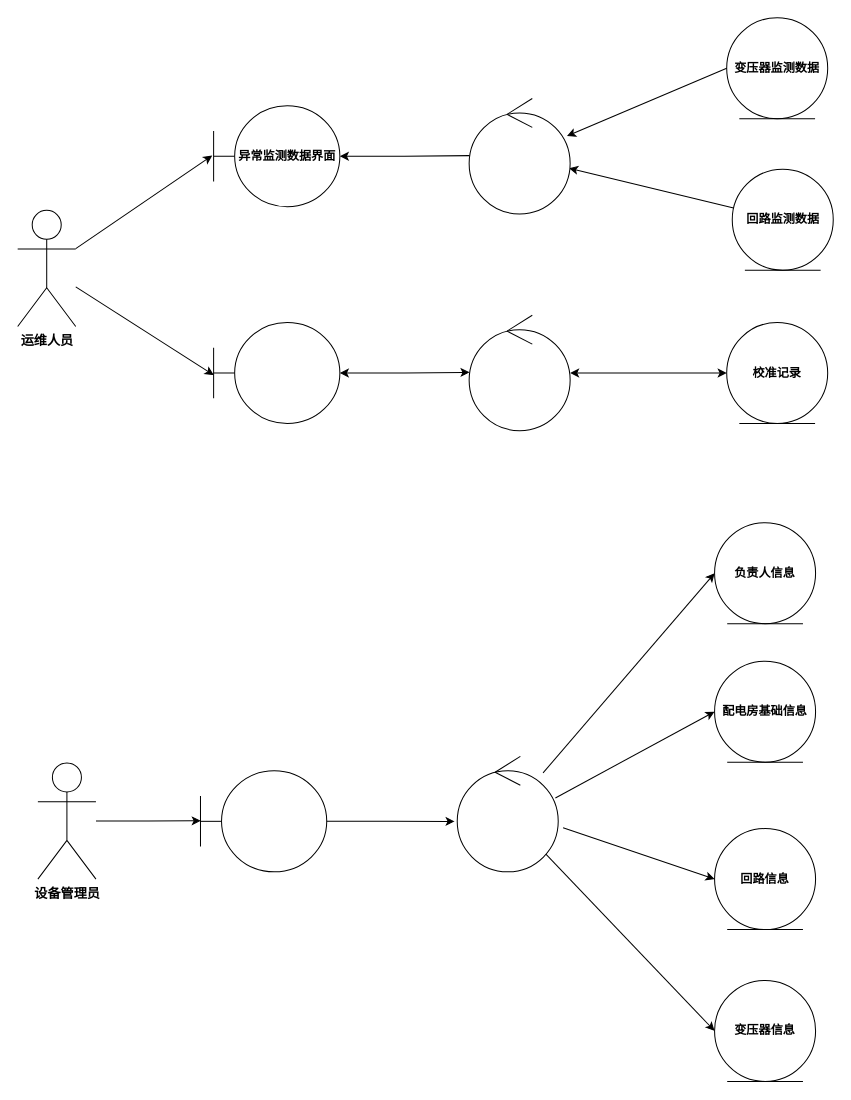
The diagram is 851 pixels wide and 1100 high, and some of its shapes have lost their labels. Here are the shapes that lost their labels. From the top down, the centre of each, then its label:
the point at 519,155: 数据实时推送服务
the point at 276,372: 设备故障处理界面
the point at 519,372: 设备故障反馈服务
the point at 263,821: 配电管理建档界面
the point at 507,813: 配电数据建档服务
